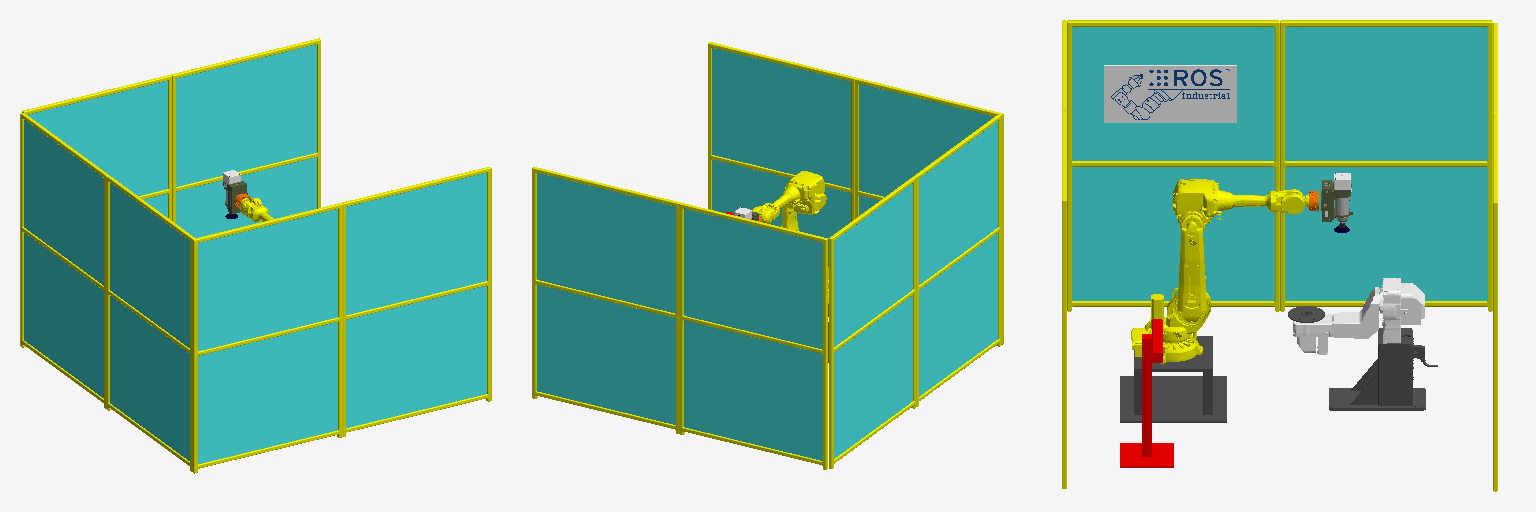
--- Facts derived from the render (not from the file) ---
The picture shows the robot from 3 angles, left to right: view 1: azimuth 30°, elevation 25°; view 2: azimuth 150°, elevation 25°; view 3: azimuth 270°, elevation 25°; orthographic projection.
Robot: tesseract_workcell — 51 links, 50 joints (8 revolute, 1 prismatic, 41 fixed); root link world; default pose: every joint at zero.
Links seen in each view (by area): view 1: fence_panel3_base_link, fence_panel5_base_link, fence_panel6_base_link, fence_panel1_base_link, fence_panel2_base_link, fence_panel4_base_link; view 2: fence_panel4_base_link, fence_panel6_base_link, fence_panel5_base_link, fence_panel2_base_link, fence_panel1_base_link, fence_panel3_base_link, robot_link_3, robot_link_4; view 3: fence_panel2_base_link, fence_panel1_base_link, logo_base_link, positioner_base_link, pedestal_base_link, ati_stand_base_link, robot_link_2, positioner_link_1, robot_link_3, fence_panel5_base_link, fence_panel6_base_link, robot_link_1 (+3 smaller).
Link boxes in pixels (bbox=[...]): fence_panel3_base_link: bbox=[192, 203, 342, 473]; fence_panel5_base_link: bbox=[342, 167, 491, 436]; fence_panel6_base_link: bbox=[171, 38, 320, 237]; fence_panel1_base_link: bbox=[106, 175, 194, 471]; fence_panel2_base_link: bbox=[20, 113, 108, 408]; fence_panel4_base_link: bbox=[22, 75, 171, 220]; fence_panel4_base_link: bbox=[679, 203, 827, 469]; fence_panel6_base_link: bbox=[532, 167, 680, 433]; fence_panel5_base_link: bbox=[708, 42, 855, 266]; fence_panel2_base_link: bbox=[829, 176, 916, 468]; fence_panel1_base_link: bbox=[914, 114, 1000, 406]; fence_panel3_base_link: bbox=[855, 78, 1003, 344]; robot_link_3: bbox=[785, 171, 826, 214]; robot_link_4: bbox=[752, 190, 794, 223]; fence_panel2_base_link: bbox=[1280, 20, 1492, 311]; fence_panel1_base_link: bbox=[1067, 20, 1279, 311]; logo_base_link: bbox=[1104, 65, 1236, 122]; positioner_base_link: bbox=[1329, 278, 1437, 410]; pedestal_base_link: bbox=[1120, 336, 1226, 422]; ati_stand_base_link: bbox=[1120, 319, 1173, 467]; robot_link_2: bbox=[1177, 215, 1206, 325]; positioner_link_1: bbox=[1293, 287, 1379, 354]; robot_link_3: bbox=[1173, 179, 1226, 230]; fence_panel5_base_link: bbox=[1062, 110, 1066, 488]; fence_panel6_base_link: bbox=[1493, 113, 1497, 491]; robot_link_1: bbox=[1145, 288, 1211, 343].
Bounding box of the posed robot: 4.05 × 4.1 × 3 m (x, y, z).
25 mesh visuals loaded from 23 distinct referenced files (20 Collada DAE); not drawn: 4 (reference not matched to a file when rendering).

URDF robot description (tesseract_workcell):
<?xml version="1.0" encoding="utf-8"?>
<!-- =================================================================================== -->
<!-- |    This document was autogenerated by xacro from workcell.xacro                 | -->
<!-- |    EDITING THIS FILE BY HAND IS NOT RECOMMENDED                                 | -->
<!-- =================================================================================== -->
<robot name="tesseract_workcell">
  <!-- link list -->
  <link name="ati_qc110m_base_link">
    <visual>
      <origin rpy="0 0 0" xyz="0 0 0"/>
      <geometry>
        <mesh filename="package://twc_support/CAD/eoat/ati_qc110m/urdf/visual/base_link.dae"/>
      </geometry>
    </visual>
    <collision>
      <origin rpy="0 0 0" xyz="0 0 0"/>
      <geometry>
        <mesh filename="package://twc_support/CAD/eoat/ati_qc110m/urdf/visual/base_link.dae"/>
      </geometry>
    </collision>
  </link>
  <link name="ati_qc110m_tool0"/>
  <!-- end of link list -->
  <!-- joint list -->
  <joint name="ati_qc110m_base_link_tool0" type="fixed">
    <origin rpy="0 0 0" xyz="0 0 0.05537"/>
    <parent link="ati_qc110m_base_link"/>
    <child link="ati_qc110m_tool0"/>
  </joint>
  <!-- end of joint list -->
  <!-- link list -->
  <link name="ati_qc110f_base_link">
    <visual>
      <origin rpy="0 0 0" xyz="0 0 0"/>
      <geometry>
        <mesh filename="package://twc_support/CAD/eoat/ati_qc110f/urdf/visual/base_link.dae"/>
      </geometry>
    </visual>
    <collision>
      <origin rpy="0 0 0" xyz="0 0 0"/>
      <geometry>
        <mesh filename="package://twc_support/CAD/eoat/ati_qc110f/urdf/visual/base_link.dae"/>
      </geometry>
    </collision>
  </link>
  <link name="ati_qc110f_tool0"/>
  <!-- end of link list -->
  <!-- joint list -->
  <joint name="ati_qc110f_base_link_tool0" type="fixed">
    <origin rpy="0 0 0" xyz="0 0 0.03754"/>
    <parent link="ati_qc110f_base_link"/>
    <child link="ati_qc110f_tool0"/>
  </joint>
  <!-- end of joint list -->
  <!-- link list -->
  <link name="ati_stand_base_link">
    <visual>
      <origin rpy="0 0 0" xyz="0 0 0"/>
      <geometry>
        <mesh filename="package://twc_support/CAD/eoat/ati_9120_stand/urdf/visual/base_link.dae"/>
      </geometry>
    </visual>
    <collision>
      <origin rpy="0 0 0" xyz="0 0 0"/>
      <geometry>
        <mesh filename="package://twc_support/CAD/eoat/ati_9120_stand/urdf/visual/base_link.dae"/>
      </geometry>
    </collision>
  </link>
  <link name="ati_stand_tool0"/>
  <link name="ati_stand_tool1"/>
  <!-- end of link list -->
  <!-- joint list -->
  <joint name="ati_stand_base_link_tool0" type="fixed">
    <origin rpy="0 1.5708 0" xyz="0.150 0.275 1.2"/>
    <parent link="ati_stand_base_link"/>
    <child link="ati_stand_tool0"/>
  </joint>
  <joint name="ati_stand_base_link_tool1" type="fixed">
    <origin rpy="0 1.5708 0" xyz="0.150 -0.275 1.2"/>
    <parent link="ati_stand_base_link"/>
    <child link="ati_stand_tool1"/>
  </joint>
  <!-- end of joint list -->
  <!-- link list -->
  <link name="ati_dock1_base_link">
    <visual>
      <origin rpy="0 0 0" xyz="0 0 0"/>
      <geometry>
        <mesh filename="package://twc_support/CAD/eoat/ati_9120_tsm_mmb_8432/urdf/visual/base_link.dae"/>
      </geometry>
    </visual>
    <collision>
      <origin rpy="0 0 0" xyz="0 0 0"/>
      <geometry>
        <mesh filename="package://twc_support/CAD/eoat/ati_9120_tsm_mmb_8432/urdf/visual/base_link.dae"/>
      </geometry>
    </collision>
  </link>
  <link name="ati_dock1_tool0"/>
  <!-- end of link list -->
  <!-- joint list -->
  <joint name="ati_dock1_base_link_tool0" type="fixed">
    <origin rpy="0 0 0" xyz="0 0.05398 0.01524"/>
    <parent link="ati_dock1_base_link"/>
    <child link="ati_dock1_tool0"/>
  </joint>
  <!-- end of joint list -->
  <!-- link list -->
  <link name="ati_dock2_base_link">
    <visual>
      <origin rpy="0 0 0" xyz="0 0 0"/>
      <geometry>
        <mesh filename="package://twc_support/CAD/eoat/ati_9120_tsm_mmb_8432/urdf/visual/base_link.dae"/>
      </geometry>
    </visual>
    <collision>
      <origin rpy="0 0 0" xyz="0 0 0"/>
      <geometry>
        <mesh filename="package://twc_support/CAD/eoat/ati_9120_tsm_mmb_8432/urdf/visual/base_link.dae"/>
      </geometry>
    </collision>
  </link>
  <link name="ati_dock2_tool0"/>
  <!-- end of link list -->
  <!-- joint list -->
  <joint name="ati_dock2_base_link_tool0" type="fixed">
    <origin rpy="0 0 0" xyz="0 0.05398 0.01524"/>
    <parent link="ati_dock2_base_link"/>
    <child link="ati_dock2_tool0"/>
  </joint>
  <!-- end of joint list -->
  <!-- link list -->
  <link name="ati_dock_base_link">
    <visual>
      <origin rpy="0 0 0" xyz="0 0 0"/>
      <geometry>
        <mesh filename="package://twc_support/CAD/eoat/ati_9120_tsm_hbq_9224/urdf/visual/base_link.dae"/>
      </geometry>
    </visual>
    <collision>
      <origin rpy="0 0 0" xyz="0 0 0"/>
      <geometry>
        <mesh filename="package://twc_support/CAD/eoat/ati_9120_tsm_hbq_9224/urdf/visual/base_link.dae"/>
      </geometry>
    </collision>
  </link>
  <link name="ati_dock_tool0"/>
  <!-- end of link list -->
  <!-- joint list -->
  <joint name="ati_dock_base_link_tool0" type="fixed">
    <origin rpy="0 0 0" xyz="0 0 0.01778"/>
    <parent link="ati_dock_base_link"/>
    <child link="ati_dock_tool0"/>
  </joint>
  <!-- end of joint list -->
  <!-- link list -->
  <link name="pushcorp_afd620_base_link">
    <visual>
      <origin rpy="0 0 0" xyz="0 0 0"/>
      <geometry>
        <mesh filename="package://twc_support/CAD/eoat/pushcorp_afd620/urdf/visual/base_link.dae"/>
      </geometry>
    </visual>
    <collision>
      <origin rpy="0 0 0" xyz="0 0 0"/>
      <geometry>
        <mesh filename="package://twc_support/CAD/eoat/pushcorp_afd620/urdf/visual/base_link.dae"/>
      </geometry>
    </collision>
  </link>
  <link name="pushcorp_afd620_link_1">
    <visual>
      <origin rpy="0 0 0" xyz="0 0 0"/>
      <geometry>
        <mesh filename="package://twc_support/CAD/eoat/pushcorp_afd620/urdf/visual/link_1.dae"/>
      </geometry>
    </visual>
    <collision>
      <origin rpy="0 0 0" xyz="0 0 0"/>
      <geometry>
        <mesh filename="package://twc_support/CAD/eoat/pushcorp_afd620/urdf/visual/link_1.dae"/>
      </geometry>
    </collision>
  </link>
  <link name="pushcorp_afd620_tool0"/>
  <!-- end of link list -->
  <!-- joint list -->
  <joint name="pushcorp_afd620_joint_1" type="prismatic">
    <origin rpy="0 0 0" xyz="0 0 0.08471"/>
    <parent link="pushcorp_afd620_base_link"/>
    <child link="pushcorp_afd620_link_1"/>
    <axis xyz="1 0 0"/>
    <limit effort="0" lower="-0.0254" upper="0.0254" velocity="1.4834"/>
  </joint>
  <joint name="pushcorp_afd620_joint_1_tool0" type="fixed">
    <origin rpy="0 0 0" xyz="0 0 0.03747"/>
    <parent link="pushcorp_afd620_link_1"/>
    <child link="pushcorp_afd620_tool0"/>
  </joint>
  <!-- end of joint list -->
  <!-- link list -->
  <link name="pushcorp_stc1015_base_link">
    <visual>
      <origin rpy="0 0 0" xyz="0 0 0"/>
      <geometry>
        <mesh filename="package://twc_support/CAD/eoat/pushcorp_stc1015/urdf/visual/base_link.dae"/>
      </geometry>
    </visual>
    <collision>
      <origin rpy="0 0 0" xyz="0 0 0"/>
      <geometry>
        <mesh filename="package://twc_support/CAD/eoat/pushcorp_stc1015/urdf/visual/base_link.dae"/>
      </geometry>
    </collision>
  </link>
  <link name="pushcorp_stc1015_tool0"/>
  <!-- end of link list -->
  <!-- joint list -->
  <joint name="pushcorp_stc1015_joint_tool0" type="fixed">
    <origin rpy="0 1.57 0" xyz="0.225 0 0.081695"/>
    <parent link="pushcorp_stc1015_base_link"/>
    <child link="pushcorp_stc1015_tool0"/>
  </joint>
  <!-- end of joint list -->
  <!-- link list -->
  <link name="positioner_base_link">
    <visual>
      <origin rpy="0 0 0" xyz="0 0 0"/>
      <geometry>
        <mesh filename="package://twc_support/CAD/robot/abb_irbpa250_d1000/urdf/visual/base_link.dae"/>
      </geometry>
    </visual>
    <collision>
      <origin rpy="0 0 0" xyz="0 0 0"/>
      <geometry>
        <mesh filename="package://twc_support/CAD/robot/abb_irbpa250_d1000/urdf/visual/base_link.dae"/>
      </geometry>
    </collision>
  </link>
  <link name="positioner_link_1">
    <visual>
      <origin rpy="0 0 0" xyz="0 0 0"/>
      <geometry>
        <mesh filename="package://twc_support/CAD/robot/abb_irbpa250_d1000/urdf/visual/link_1.dae"/>
      </geometry>
    </visual>
    <collision>
      <origin rpy="0 0 0" xyz="0 0 0"/>
      <geometry>
        <mesh filename="package://twc_support/CAD/robot/abb_irbpa250_d1000/urdf/visual/link_1.dae"/>
      </geometry>
    </collision>
  </link>
  <link name="positioner_link_2">
    <visual>
      <origin rpy="0 0 0" xyz="0 0 0"/>
      <geometry>
        <mesh filename="package://twc_support/CAD/robot/abb_irbpa250_d1000/urdf/visual/link_2.dae"/>
      </geometry>
    </visual>
    <collision>
      <origin rpy="0 0 0" xyz="0 0 0"/>
      <geometry>
        <mesh filename="package://twc_support/CAD/robot/abb_irbpa250_d1000/urdf/visual/link_2.dae"/>
      </geometry>
    </collision>
  </link>
  <link name="positioner_tool0"/>
  <!-- end of link list -->
  <!-- joint list -->
  <joint name="positioner_base_joint" type="revolute">
    <origin rpy="0 0 0" xyz="0.733 0 1.020"/>
    <parent link="positioner_base_link"/>
    <child link="positioner_link_1"/>
    <axis xyz="1 0 0"/>
    <limit effort="0" lower="-6.28319" upper="6.28319" velocity="1.4834"/>
  </joint>
  <joint name="positioner_joint_1" type="revolute">
    <origin rpy="0 0 0" xyz="-0.733 0 0"/>
    <parent link="positioner_link_1"/>
    <child link="positioner_link_2"/>
    <axis xyz="0 0 1"/>
    <limit effort="0" lower="-6.28319" upper="6.28319" velocity="1.4834"/>
  </joint>
  <joint name="positioner_joint_2_tool0" type="fixed">
    <origin rpy="0 0 0" xyz="0 0 0.10487"/>
    <parent link="positioner_link_2"/>
    <child link="positioner_tool0"/>
  </joint>
  <!-- end of joint list -->
  <!-- link list -->
  <link name="st_base_link">
    <visual>
      <origin rpy="0 0 0" xyz="0 0 0"/>
      <geometry>
        <mesh filename="package://twc_support/CAD/eoat/bt30_sander/urdf/visual/base_link.dae"/>
      </geometry>
    </visual>
    <collision>
      <origin rpy="0 0 0" xyz="0 0 0"/>
      <geometry>
        <mesh filename="package://twc_support/CAD/eoat/bt30_sander/urdf/visual/base_link.dae"/>
      </geometry>
    </collision>
  </link>
  <link name="st_tool0"/>
  <!-- end of link list -->
  <!-- joint list -->
  <joint name="st_joint_tool0" type="fixed">
    <origin rpy="0 0 0" xyz="0 0 0.07328"/>
    <parent link="st_base_link"/>
    <child link="st_tool0"/>
  </joint>
  <!-- end of joint list -->
  <!-- link list -->
  <link name="robot_base_link">
    <collision name="collision">
      <geometry>
        <mesh filename="package://twc_support/CAD/robot/abb_irb4600_60_205/urdf/collision/base_link.stl"/>
      </geometry>
    </collision>
    <visual name="visual">
      <geometry>
        <mesh filename="package://twc_support/CAD/robot/abb_irb4600_60_205/urdf/visual/base_link.dae"/>
      </geometry>
      <material name="yellow">
        <color rgba="1 1 0 1"/>
      </material>
    </visual>
  </link>
  <link name="robot_link_1">
    <collision name="collision">
      <geometry>
        <mesh filename="package://twc_support/CAD/robot/abb_irb4600_60_205/urdf/collision/link_1.stl"/>
      </geometry>
    </collision>
    <visual name="visual">
      <geometry>
        <mesh filename="package://twc_support/CAD/robot/abb_irb4600_60_205/urdf/visual/link_1.dae"/>
      </geometry>
      <material name="yellow"/>
    </visual>
  </link>
  <link name="robot_link_2">
    <collision name="collision">
      <geometry>
        <mesh filename="package://twc_support/CAD/robot/abb_irb4600_60_205/urdf/collision/link_2.stl"/>
      </geometry>
    </collision>
    <visual name="visual">
      <geometry>
        <mesh filename="package://twc_support/CAD/robot/abb_irb4600_60_205/urdf/visual/link_2.dae"/>
      </geometry>
      <material name="yellow"/>
    </visual>
  </link>
  <link name="robot_link_3">
    <collision name="collision">
      <geometry>
        <mesh filename="package://twc_support/CAD/robot/abb_irb4600_60_205/urdf/collision/link_3.stl"/>
      </geometry>
    </collision>
    <visual name="visual">
      <geometry>
        <mesh filename="package://twc_support/CAD/robot/abb_irb4600_60_205/urdf/visual/link_3.dae"/>
      </geometry>
      <material name="yellow"/>
    </visual>
  </link>
  <link name="robot_link_4">
    <collision name="collision">
      <geometry>
        <mesh filename="package://twc_support/CAD/robot/abb_irb4600_60_205/urdf/collision/link_4.stl"/>
      </geometry>
    </collision>
    <visual name="visual">
      <geometry>
        <mesh filename="package://twc_support/CAD/robot/abb_irb4600_60_205/urdf/visual/link_4.dae"/>
      </geometry>
      <material name="yellow"/>
    </visual>
  </link>
  <link name="robot_link_5">
    <collision name="collision">
      <geometry>
        <mesh filename="package://twc_support/CAD/robot/abb_irb4600_60_205/urdf/collision/link_5.stl"/>
      </geometry>
    </collision>
    <visual name="visual">
      <geometry>
        <mesh filename="package://twc_support/CAD/robot/abb_irb4600_60_205/urdf/visual/link_5.dae"/>
      </geometry>
      <material name="yellow"/>
    </visual>
  </link>
  <link name="robot_link_6">
    <collision name="collision">
      <geometry>
        <mesh filename="package://twc_support/CAD/robot/abb_irb4600_60_205/urdf/collision/link_6.stl"/>
      </geometry>
    </collision>
    <visual name="visual">
      <geometry>
        <mesh filename="package://twc_support/CAD/robot/abb_irb4600_60_205/urdf/visual/link_6.dae"/>
      </geometry>
      <material name="yellow"/>
    </visual>
  </link>
  <link name="robot_tool0"/>
  <!-- end of link list -->
  <!-- joint list -->
  <joint name="robot_joint_1" type="revolute">
    <origin rpy="0 0 0" xyz="0 0 0.495"/>
    <axis xyz="0 0 1"/>
    <parent link="robot_base_link"/>
    <child link="robot_link_1"/>
    <limit effort="0" lower="-3.141" upper="3.141" velocity="3.054"/>
  </joint>
  <joint name="robot_joint_2" type="revolute">
    <origin rpy="0 0 0" xyz="0.175 0 0"/>
    <axis xyz="0 1 0"/>
    <parent link="robot_link_1"/>
    <child link="robot_link_2"/>
    <limit effort="0" lower="-1.570" upper="2.617" velocity="3.054"/>
  </joint>
  <joint name="robot_joint_3" type="revolute">
    <origin rpy="0 0 0" xyz="0 0 0.9"/>
    <axis xyz="0 1 0"/>
    <parent link="robot_link_2"/>
    <child link="robot_link_3"/>
    <limit effort="0" lower="-3.141" upper="1.308" velocity="3.054"/>
  </joint>
  <joint name="robot_joint_4" type="revolute">
    <origin rpy="0 0 0" xyz="0 0 0.175"/>
    <axis xyz="1 0 0"/>
    <parent link="robot_link_3"/>
    <child link="robot_link_4"/>
    <limit effort="0" lower="-6.981" upper="6.981" velocity="4.363"/>
  </joint>
  <joint name="robot_joint_5" type="revolute">
    <origin rpy="0 0 0" xyz="0.960 0 0 "/>
    <axis xyz="0 1 0"/>
    <parent link="robot_link_4"/>
    <child link="robot_link_5"/>
    <limit effort="0" lower="-2.181" upper="2.094" velocity="4.363"/>
  </joint>
  <joint name="robot_joint_6" type="revolute">
    <origin rpy="0 0 0" xyz="0 0 0 "/>
    <axis xyz="1 0 0"/>
    <parent link="robot_link_5"/>
    <child link="robot_link_6"/>
    <limit effort="0" lower="-6.981" upper="6.981" velocity="6.283"/>
  </joint>
  <joint name="robot_joint_6-tool0" type="fixed">
    <parent link="robot_link_6"/>
    <child link="robot_tool0"/>
    <origin rpy="0 1.57079632679 0" xyz="0.135 0 0"/>
  </joint>
  <!-- end of joint list -->
  <!-- ROS base_link to ABB World Coordinates transform -->
  <link name="robot_base"/>
  <joint name="robot_base_link-base" type="fixed">
    <origin rpy="0 0 0" xyz="0 0 0"/>
    <parent link="robot_base_link"/>
    <child link="robot_base"/>
  </joint>
  <!-- link list -->
  <link name="pedestal_base_link">
    <visual>
      <origin rpy="0 0 0" xyz="0 0 0"/>
      <geometry>
        <mesh filename="package://twc_support/CAD/pedestal/pedestal_750mm/urdf/visual/base_link.dae"/>
      </geometry>
    </visual>
    <collision>
      <origin rpy="0 0 0" xyz="0 0 0"/>
      <geometry>
        <mesh filename="package://twc_support/CAD/pedestal/pedestal_750mm/urdf/visual/base_link.dae"/>
      </geometry>
    </collision>
  </link>
  <link name="pedestal_tool0"/>
  <!-- end of link list -->
  <!-- joint list -->
  <joint name="pedestal_base_link_tool0" type="fixed">
    <origin rpy="0 0 0" xyz="0 0 0.5"/>
    <parent link="pedestal_base_link"/>
    <child link="pedestal_tool0"/>
  </joint>
  <!-- end of joint list -->
  <!-- link list -->
  <link name="fence_panel1_base_link">
    <visual>
      <origin rpy="0 0 0" xyz="0 0 0"/>
      <geometry>
        <mesh filename="package://twc_support/CAD/fence/panel_3m_2m_solid/urdf/visual/base_link.dae"/>
      </geometry>
    </visual>
    <collision>
      <origin rpy="0 0 0" xyz="0 0 0"/>
      <geometry>
        <mesh filename="package://twc_support/CAD/fence/panel_3m_2m_solid/urdf/visual/base_link.dae"/>
      </geometry>
    </collision>
  </link>
  <link name="fence_panel1_tool0"/>
  <joint name="fence_panel1_joint_1" type="fixed">
    <origin rpy="0 0 0" xyz="2.0 0 0"/>
    <parent link="fence_panel1_base_link"/>
    <child link="fence_panel1_tool0"/>
  </joint>
  <!-- link list -->
  <link name="fence_panel2_base_link">
    <visual>
      <origin rpy="0 0 0" xyz="0 0 0"/>
      <geometry>
        <mesh filename="package://twc_support/CAD/fence/panel_3m_2m_solid/urdf/visual/base_link.dae"/>
      </geometry>
    </visual>
    <collision>
      <origin rpy="0 0 0" xyz="0 0 0"/>
      <geometry>
        <mesh filename="package://twc_support/CAD/fence/panel_3m_2m_solid/urdf/visual/base_link.dae"/>
      </geometry>
    </collision>
  </link>
  <link name="fence_panel2_tool0"/>
  <joint name="fence_panel2_joint_1" type="fixed">
    <origin rpy="0 0 0" xyz="2.0 0 0"/>
    <parent link="fence_panel2_base_link"/>
    <child link="fence_panel2_tool0"/>
  </joint>
  <!-- link list -->
  <link name="fence_panel3_base_link">
    <visual>
      <origin rpy="0 0 0" xyz="0 0 0"/>
      <geometry>
        <mesh filename="package://twc_support/CAD/fence/panel_3m_2m_solid/urdf/visual/base_link.dae"/>
      </geometry>
    </visual>
    <collision>
      <origin rpy="0 0 0" xyz="0 0 0"/>
      <geometry>
        <mesh filename="package://twc_support/CAD/fence/panel_3m_2m_solid/urdf/visual/base_link.dae"/>
      </geometry>
    </collision>
  </link>
  <link name="fence_panel3_tool0"/>
  <joint name="fence_panel3_joint_1" type="fixed">
    <origin rpy="0 0 0" xyz="2.0 0 0"/>
    <parent link="fence_panel3_base_link"/>
    <child link="fence_panel3_tool0"/>
  </joint>
  <!-- link list -->
  <link name="fence_panel4_base_link">
    <visual>
      <origin rpy="0 0 0" xyz="0 0 0"/>
      <geometry>
        <mesh filename="package://twc_support/CAD/fence/panel_3m_2m_solid/urdf/visual/base_link.dae"/>
      </geometry>
    </visual>
    <collision>
      <origin rpy="0 0 0" xyz="0 0 0"/>
      <geometry>
        <mesh filename="package://twc_support/CAD/fence/panel_3m_2m_solid/urdf/visual/base_link.dae"/>
      </geometry>
    </collision>
  </link>
  <link name="fence_panel4_tool0"/>
  <joint name="fence_panel4_joint_1" type="fixed">
    <origin rpy="0 0 0" xyz="2.0 0 0"/>
    <parent link="fence_panel4_base_link"/>
    <child link="fence_panel4_tool0"/>
  </joint>
  <!-- link list -->
  <link name="fence_panel5_base_link">
    <visual>
      <origin rpy="0 0 0" xyz="0 0 0"/>
      <geometry>
        <mesh filename="package://twc_support/CAD/fence/panel_3m_2m_solid/urdf/visual/base_link.dae"/>
      </geometry>
    </visual>
    <collision>
      <origin rpy="0 0 0" xyz="0 0 0"/>
      <geometry>
        <mesh filename="package://twc_support/CAD/fence/panel_3m_2m_solid/urdf/visual/base_link.dae"/>
      </geometry>
    </collision>
  </link>
  <link name="fence_panel5_tool0"/>
  <joint name="fence_panel5_joint_1" type="fixed">
    <origin rpy="0 0 0" xyz="2.0 0 0"/>
    <parent link="fence_panel5_base_link"/>
    <child link="fence_panel5_tool0"/>
  </joint>
  <!-- link list -->
  <link name="fence_panel6_base_link">
    <visual>
      <origin rpy="0 0 0" xyz="0 0 0"/>
      <geometry>
        <mesh filename="package://twc_support/CAD/fence/panel_3m_2m_solid/urdf/visual/base_link.dae"/>
      </geometry>
    </visual>
    <collision>
      <origin rpy="0 0 0" xyz="0 0 0"/>
      <geometry>
        <mesh filename="package://twc_support/CAD/fence/panel_3m_2m_solid/urdf/visual/base_link.dae"/>
      </geometry>
    </collision>
  </link>
  <link name="fence_panel6_tool0"/>
  <joint name="fence_panel6_joint_1" type="fixed">
    <origin rpy="0 0 0" xyz="2.0 0 0"/>
    <parent link="fence_panel6_base_link"/>
    <child link="fence_panel6_tool0"/>
  </joint>
  <link name="logo_base_link">
    <visual>
      <origin rpy="0 0 0" xyz="-0.125 -0.05 0.01"/>
      <geometry>
        <box size="1.25 0.6 0.02"/>
      </geometry>
      <material name="WhiteLogo">
        <color rgba="1.0 1.0 1.0 1.0"/>
      </material>
    </visual>
    <visual>
      <origin rpy="0 0 0" xyz="0 0 0.02"/>
      <geometry>
        <mesh filename="package://twc_support/CAD/logo/ros_industrial/urdf/visual/ros_industrial_logo.dae"/>
      </geometry>
    </visual>
    <collision>
      <origin rpy="0 0 0" xyz="0 0 0"/>
      <geometry>
        <box size="1 1 0.03"/>
      </geometry>
    </collision>
  </link>
  <!-- link list -->
  <link name="world"/>
  <link name="tool_dock0"/>
  <link name="part_link">
    <visual>
      <origin rpy="0 0 0" xyz="0 0 0"/>
      <geometry>
        <mesh filename="package://twc_support/meshes/fuselage_part.dae"/>
      </geometry>
    </visual>
    <collision>
      <origin rpy="0 0 0" xyz="0 0 0"/>
      <geometry>
        <mesh filename="package://twc_support/meshes/fuselage_part.ply"/>
      </geometry>
    </collision>
  </link>
  <!-- joint list -->
  <joint name="world_positioner_joint" type="fixed">
    <origin rpy="0 0 1.5708" xyz="0 0.25 0"/>
    <parent link="world"/>
    <child link="positioner_base_link"/>
  </joint>
  <joint name="world_pedestal_joint" type="fixed">
    <origin rpy="0 0 1.5708" xyz="0 -1 0"/>
    <parent link="world"/>
    <child link="pedestal_base_link"/>
  </joint>
  <joint name="pedestal_robot_joint" type="fixed">
    <origin rpy="0 0 0" xyz="0 0 0"/>
    <parent link="pedestal_tool0"/>
    <child link="robot_base_link"/>
  </joint>
  <joint name="world_ati_stand_joint" type="fixed">
    <origin rpy="0 0 1.5708" xyz="1.25 -1.25 0"/>
    <parent link="world"/>
    <child link="ati_stand_base_link"/>
  </joint>
  <joint name="ati_stand_dock1_joint" type="fixed">
    <origin rpy="0 0 0" xyz="0 0 0"/>
    <parent link="ati_stand_tool0"/>
    <child link="ati_dock1_base_link"/>
  </joint>
  <joint name="ati_stand_dock2_joint" type="fixed">
    <origin rpy="0 0 0" xyz="0 0 0"/>
    <parent link="ati_stand_tool1"/>
    <child link="ati_dock2_base_link"/>
  </joint>
  <joint name="robot_ati_m_joint" type="fixed">
    <!--      <origin xyz="0 0 0.05" rpy="0 0.785398 3.14159" />-->
    <origin rpy="0 0 0" xyz="0 0 0"/>
    <parent link="robot_tool0"/>
    <child link="ati_qc110m_base_link"/>
  </joint>
  <joint name="world_tool_dock0_joint" type="fixed">
    <origin rpy="-1.5708 -1.5708 -3.14" xyz="-1 -1 1"/>
    <parent link="world"/>
    <child link="tool_dock0"/>
  </joint>
  <!--<joint name="${prefix}tool_dock0_ati_f_joint" type="fixed">
      <origin xyz="0 0 0" rpy="0 0 0" />
      <parent link="${prefix}tool_dock0" />
      <child link="${prefix}ati_f_base_link" />
    </joint>-->
  <joint name="robot_ati_f_joint" type="fixed">
    <origin rpy="0 0 0" xyz="0 0 0"/>
    <parent link="ati_qc110m_tool0"/>
    <child link="ati_qc110f_base_link"/>
  </joint>
  <joint name="ati_m_pushcorp_ati_dock_joint" type="fixed">
    <origin rpy="0 0 0" xyz="0 0 0"/>
    <parent link="ati_qc110f_tool0"/>
    <child link="ati_dock_base_link"/>
  </joint>
  <joint name="ati_dock_pushcorp_afd_joint" type="fixed">
    <origin rpy="0 0 0" xyz="0 0 0"/>
    <parent link="ati_dock_tool0"/>
    <child link="pushcorp_afd620_base_link"/>
  </joint>
  <joint name="pushcorp_afd_stc_parallel_joint" type="fixed">
    <origin rpy="0 0 0" xyz="0 0 0"/>
    <parent link="pushcorp_afd620_tool0"/>
    <child link="pushcorp_stc1015_base_link"/>
  </joint>
  <joint name="positioner_part_joint" type="fixed">
    <!--      <origin xyz="-0.4 -1.1 -0.2" rpy="0 -0.523599 0" />-->
    <origin rpy="0 0 0" xyz="-0.55 -1.1 0"/>
    <parent link="positioner_tool0"/>
    <child link="part_link"/>
  </joint>
  <joint name="bt30_sander_joint" type="fixed">
    <origin rpy="0 0 0" xyz="0 0 0"/>
    <parent link="pushcorp_stc1015_tool0"/>
    <child link="st_base_link"/>
  </joint>
  <joint name="fence_panel1_joint" type="fixed">
    <origin rpy="0 0 -1.5708" xyz="-2.0 0 0"/>
    <parent link="world"/>
    <child link="fence_panel1_base_link"/>
  </joint>
  <joint name="fence_panel2_joint" type="fixed">
    <origin rpy="0 0 3.14159" xyz="0 0 0"/>
    <parent link="fence_panel1_base_link"/>
    <child link="fence_panel2_base_link"/>
  </joint>
  <joint name="fence_panel3_joint" type="fixed">
    <origin rpy="0 0 1.5708" xyz="0.025 -0.025 0"/>
    <parent link="fence_panel1_tool0"/>
    <child link="fence_panel3_base_link"/>
  </joint>
  <joint name="fence_panel4_joint" type="fixed">
    <origin rpy="0 0 -1.5708" xyz="0.025 -0.025 0"/>
    <parent link="fence_panel2_tool0"/>
    <child link="fence_panel4_base_link"/>
  </joint>
  <joint name="fence_panel5_joint" type="fixed">
    <origin rpy="0 0 0" xyz="0 0 0"/>
    <parent link="fence_panel3_tool0"/>
    <child link="fence_panel5_base_link"/>
  </joint>
  <joint name="fence_panel6_joint" type="fixed">
    <origin rpy="0 0 0" xyz="0 0 0"/>
    <parent link="fence_panel4_tool0"/>
    <child link="fence_panel6_base_link"/>
  </joint>
  <joint name="logo_joint" type="fixed">
    <origin rpy="1.5708 0 3.14159" xyz="0.9 0 2.3"/>
    <parent link="fence_panel1_base_link"/>
    <child link="logo_base_link"/>
  </joint>
  <!-- end of joint list -->
</robot>
